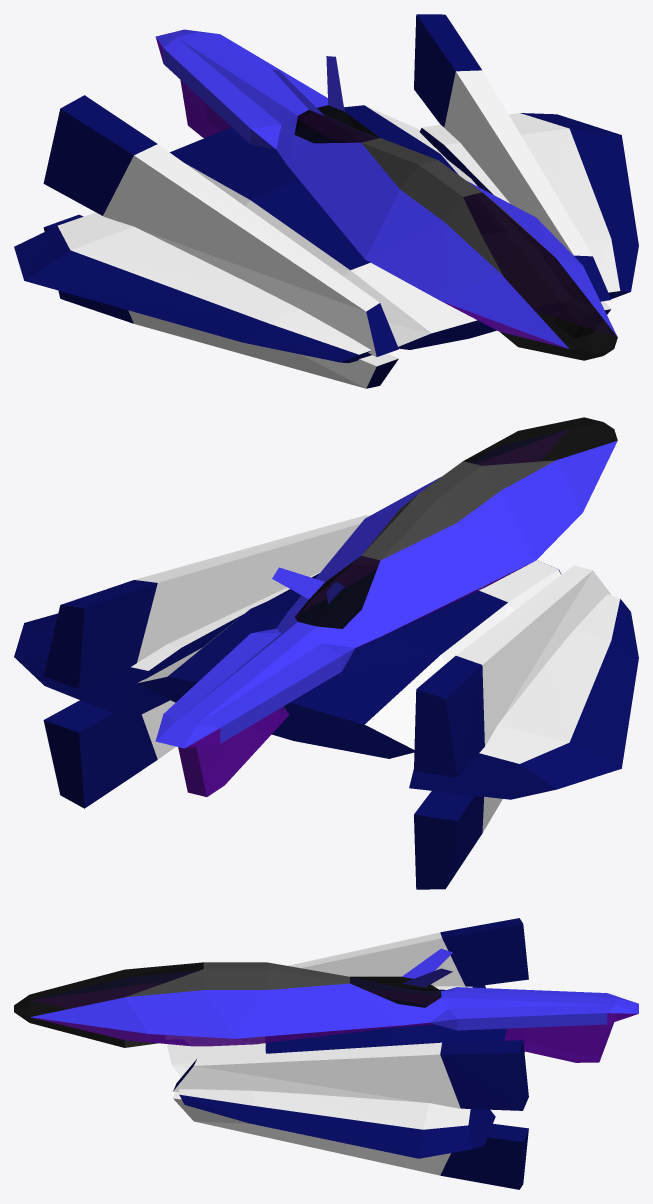
The model's file is PlayerMark2.FBX.
3 views of the same model, one above another, from view 1: azimuth 30°, elevation 25°; view 2: azimuth 150°, elevation 25°; view 3: azimuth 270°, elevation 25° (orthographic). The views are drawn at different scales.
Visible parts, largest first — view 1: VIFS007, VIFS008, VIFS001, VIFS002, VIFS004, VIFS003, VIFS006; view 2: VIFS008, VIFS007, VIFS001, VIFS006, VIFS009, VIFS002, VIFS003, VIFS004; view 3: VIFS007, VIFS001, VIFS008, VIFS004, VIFS002, VIFS003, VIFS006, VIFS009.
Boxes of the visible parts, bbox=[...] form: VIFS007: bbox=[58, 70, 620, 388]; VIFS008: bbox=[14, 14, 638, 362]; VIFS001: bbox=[155, 29, 617, 348]; VIFS002: bbox=[294, 105, 617, 360]; VIFS004: bbox=[155, 37, 616, 348]; VIFS003: bbox=[361, 138, 554, 346]; VIFS006: bbox=[342, 128, 629, 388]; VIFS008: bbox=[14, 569, 638, 888]; VIFS007: bbox=[131, 515, 620, 832]; VIFS001: bbox=[155, 431, 617, 748]; VIFS006: bbox=[14, 560, 561, 799]; VIFS009: bbox=[43, 605, 457, 889]; VIFS002: bbox=[294, 417, 617, 628]; VIFS003: bbox=[361, 449, 555, 560]; VIFS004: bbox=[178, 430, 567, 796]; VIFS007: bbox=[167, 932, 472, 1175]; VIFS001: bbox=[30, 948, 638, 1038]; VIFS008: bbox=[179, 918, 528, 1189]; VIFS004: bbox=[31, 983, 637, 1062]; VIFS002: bbox=[14, 962, 441, 1047]; VIFS003: bbox=[124, 962, 349, 1047]; VIFS006: bbox=[173, 985, 495, 1148]; VIFS009: bbox=[519, 1041, 528, 1189].
Size of the model in its own units: 0.5874 by 0.2189 by 0.7402.
